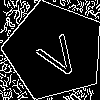V: (29, 26, 85, 82)
